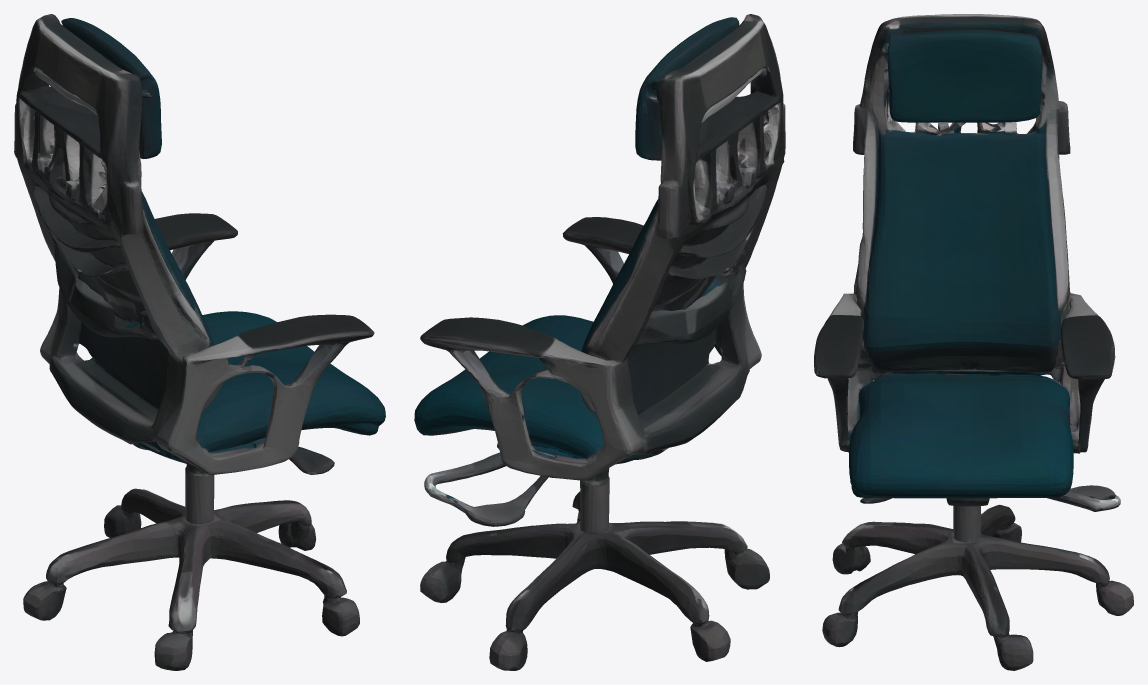
Rendered from computer_chair_47.obj.
3 views of the same model, side by side, from view 1: azimuth 30°, elevation 25°; view 2: azimuth 150°, elevation 25°; view 3: azimuth 270°, elevation 25° (orthographic). The views are drawn at different scales.
Bounding box in the file's own units: 0.6812 × 1.3 × 0.7012.
1 material, 1 textured.
